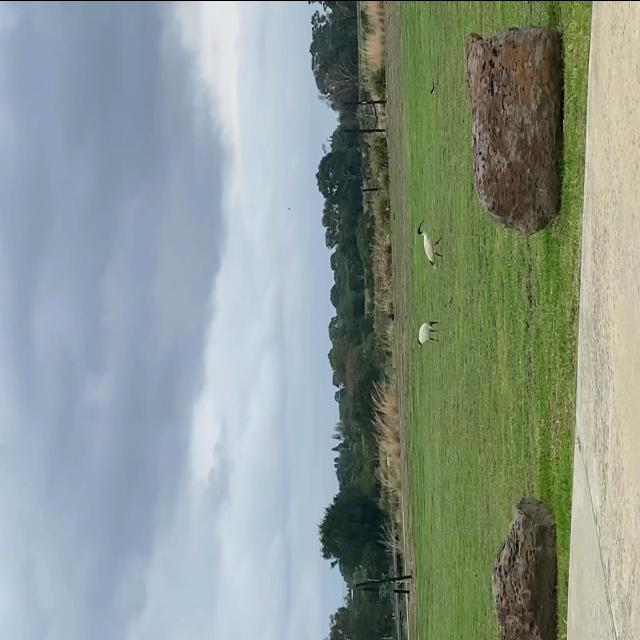Birds-Ibis: (413, 215, 448, 274), (413, 314, 443, 350)
